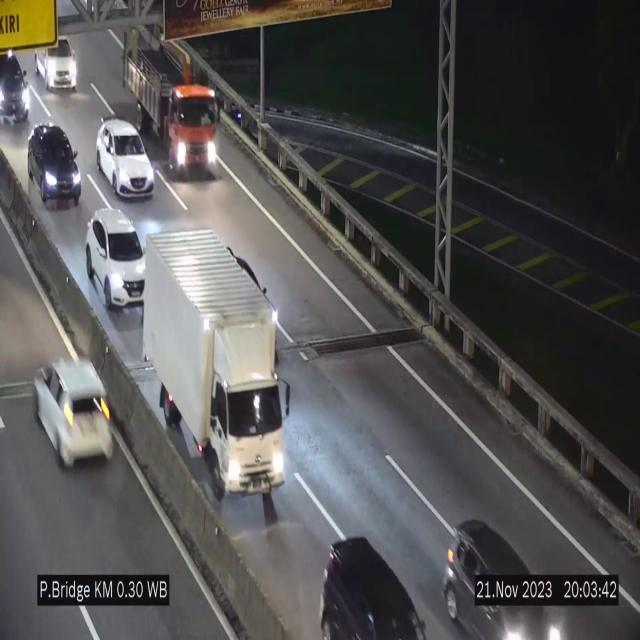Car: (86, 208, 145, 309), (96, 118, 154, 198), (28, 125, 81, 205), (34, 33, 78, 93)
Truck: (142, 229, 292, 509), (123, 22, 219, 174)
